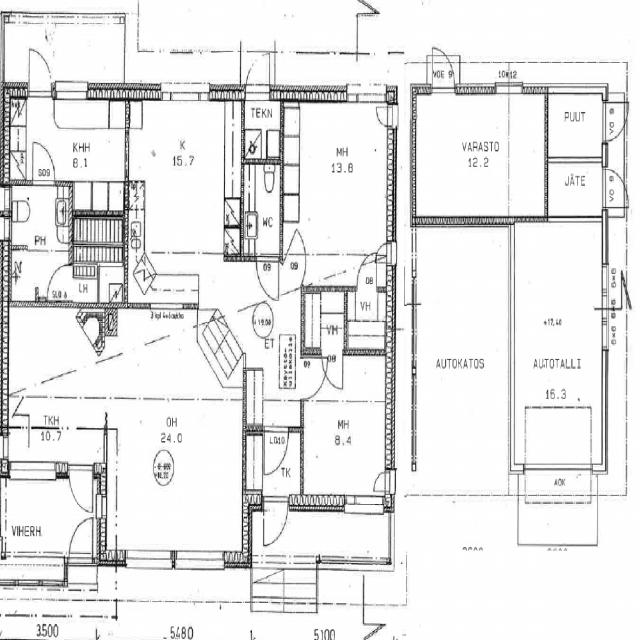door: (282, 230, 314, 287), (68, 463, 94, 522), (264, 496, 287, 552), (246, 42, 268, 98), (264, 426, 289, 473), (29, 45, 51, 98), (301, 357, 328, 399), (602, 169, 630, 208), (432, 46, 454, 94), (602, 103, 630, 140), (69, 522, 92, 567), (256, 256, 278, 298), (32, 144, 54, 186), (321, 349, 343, 391), (49, 265, 72, 300), (357, 252, 377, 292)
